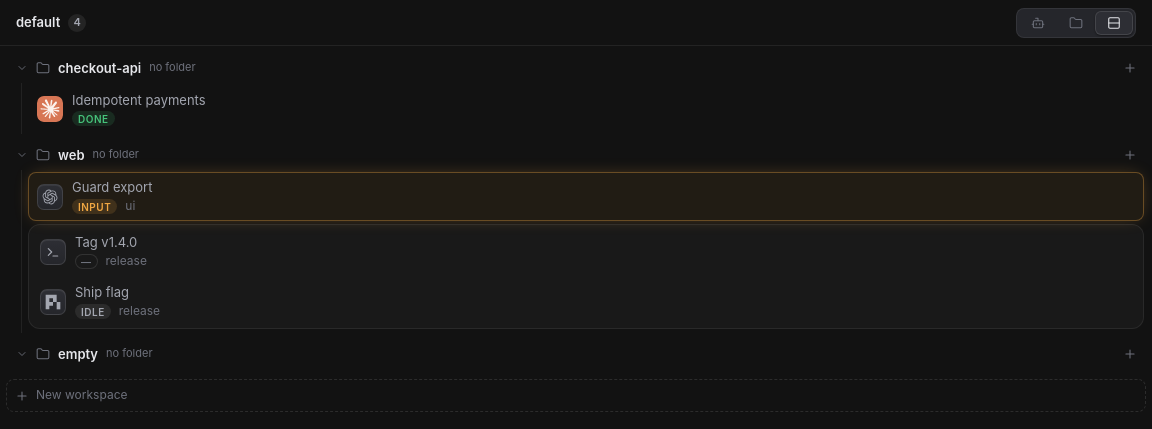
Test case: AgentList › sums up a collapsed workspace: its pane count and its most urgent status
This screenshot has width=1152, height=429.
Click the button "web no folder".
click(116, 154)  # box [8, 141, 1115, 169]
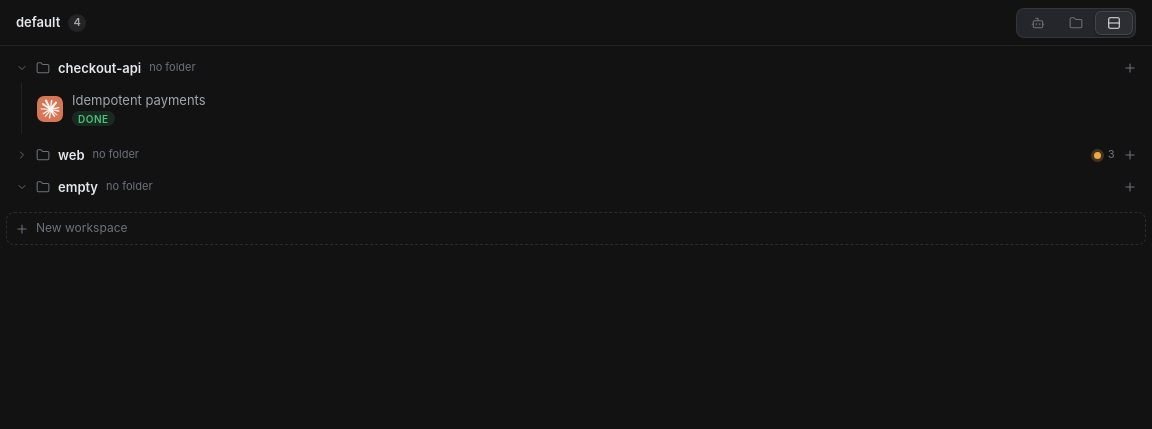
Click the button "checkout-api no folder".
click(100, 68)  # box [8, 54, 1115, 82]
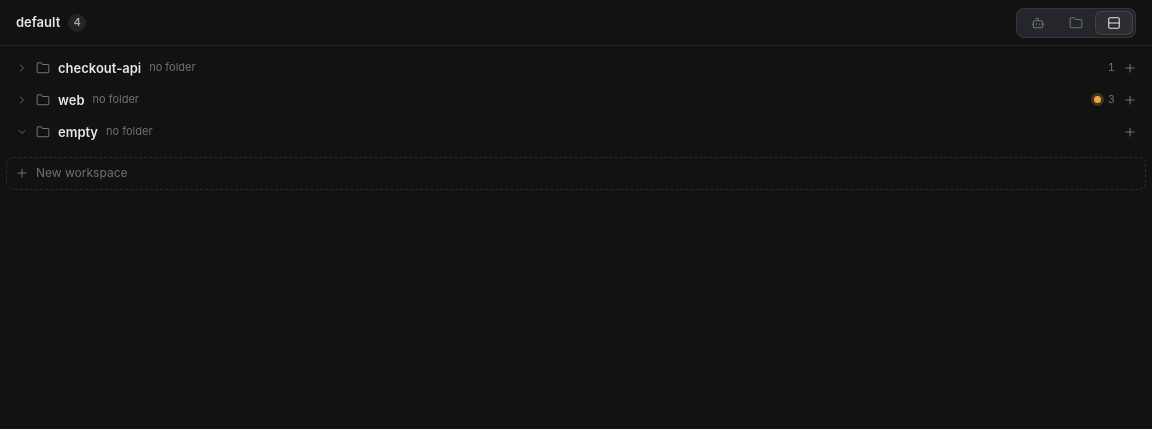
Expected: the text with class "ws-count" reads "3", [1108, 92, 1115, 106]
Expected: the picture named "status blocked" is shown, [1094, 96, 1101, 104]
Expected: the text with class "ws-count" reads "1", [1108, 60, 1115, 74]
